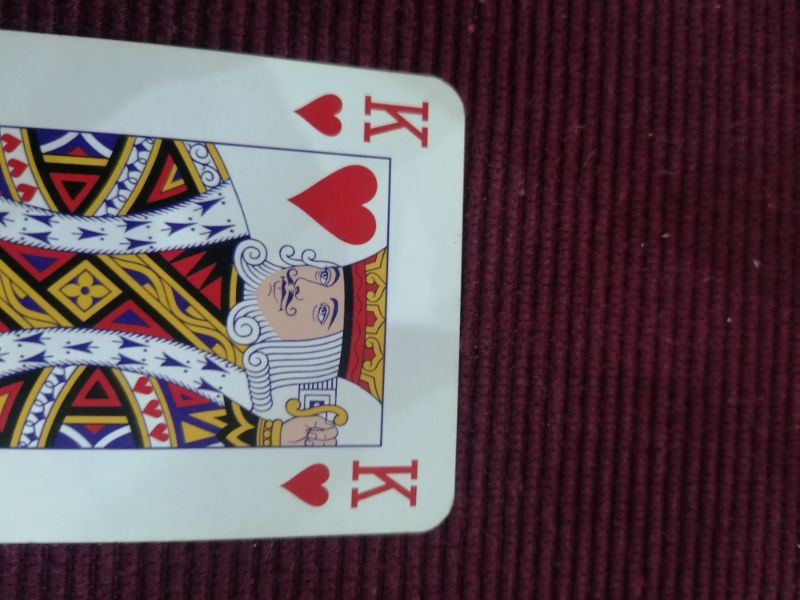Kh: (285, 85, 435, 153), (279, 456, 427, 513)
